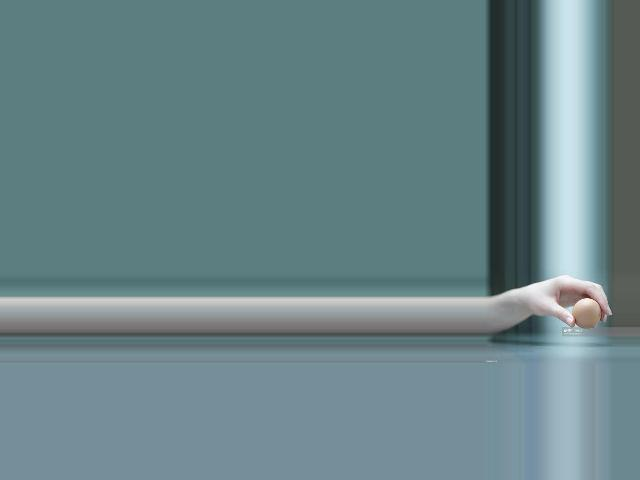egg: (571, 298, 601, 329)
